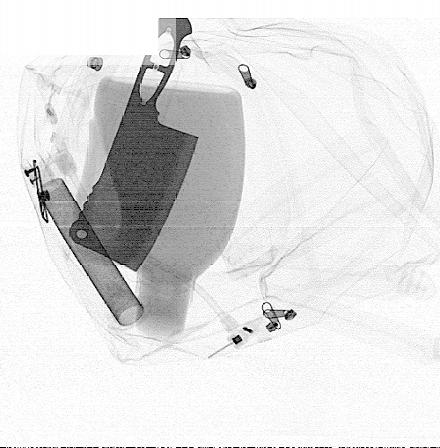Knife: (68, 17, 199, 273)
